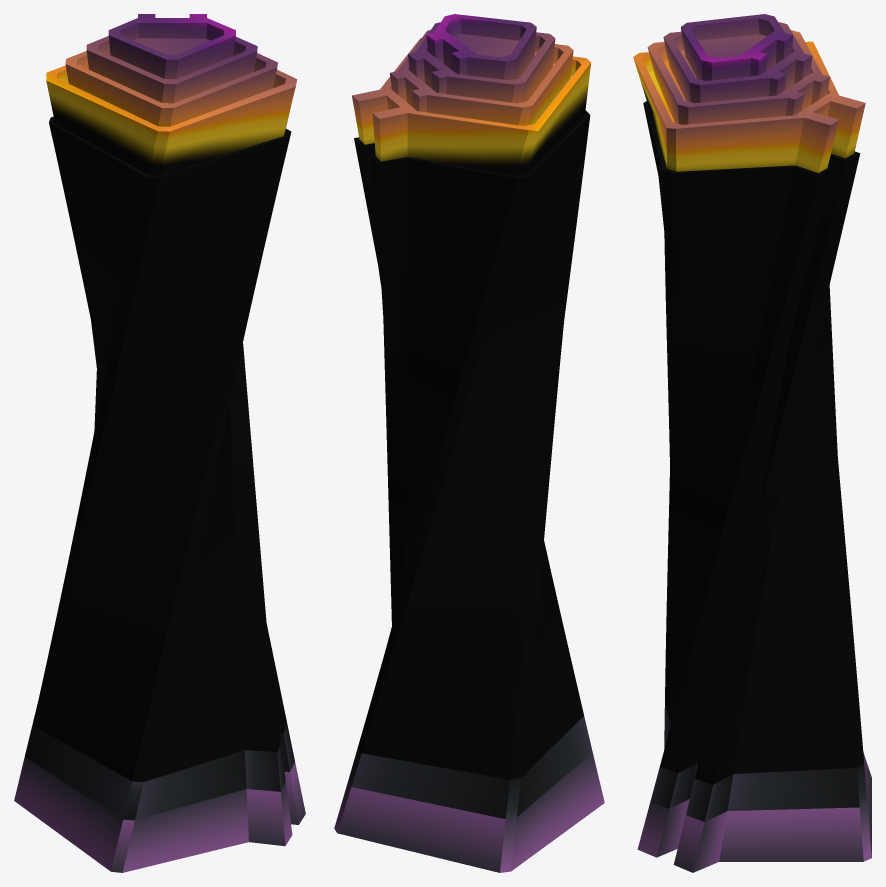
Rendered from skyscraper1 test.fbx.
The picture shows the model from 3 angles, left to right: view 1: azimuth 30°, elevation 25°; view 2: azimuth 150°, elevation 25°; view 3: azimuth 270°, elevation 25°; orthographic projection. The views are drawn at different scales.
Parts seen in each view (by area): view 1: SkyScraper1; view 2: SkyScraper1; view 3: SkyScraper1.
Boxes of the visible parts, bbox=[...] form: SkyScraper1: bbox=[14, 14, 305, 872]; SkyScraper1: bbox=[334, 14, 604, 872]; SkyScraper1: bbox=[633, 14, 871, 872].
Size of the model in its own units: 279 by 1028 by 284.
1 material, 1 textured.
